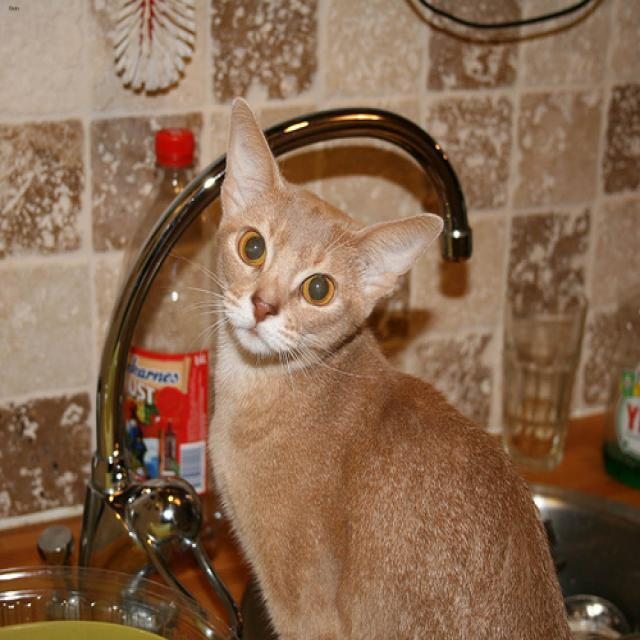Abyssinian: (214, 95, 440, 352)
